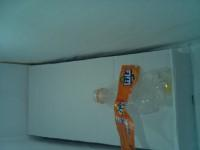bottle: (88, 68, 172, 115)
